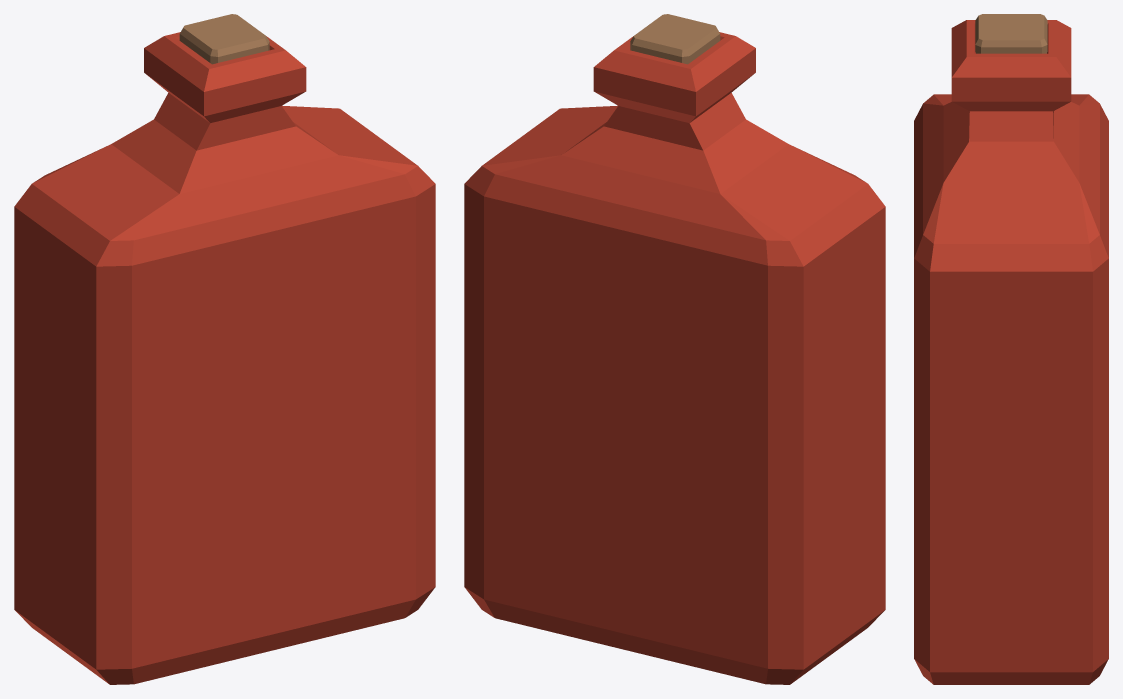
File: Red_Potion_5.fbx
3 views of the same model, side by side, from view 1: azimuth 30°, elevation 25°; view 2: azimuth 150°, elevation 25°; view 3: azimuth 270°, elevation 25° (orthographic).
Visible parts, largest first — view 1: Red_Potion_5; view 2: Red_Potion_5; view 3: Red_Potion_5.
Part boxes in pixels (x1=…): Red_Potion_5: x1=14, y1=14, x2=435, y2=684; Red_Potion_5: x1=464, y1=14, x2=885, y2=684; Red_Potion_5: x1=914, y1=14, x2=1108, y2=684.
Bounding box in the file's own units: 25.6 × 42.3 × 12.8.
